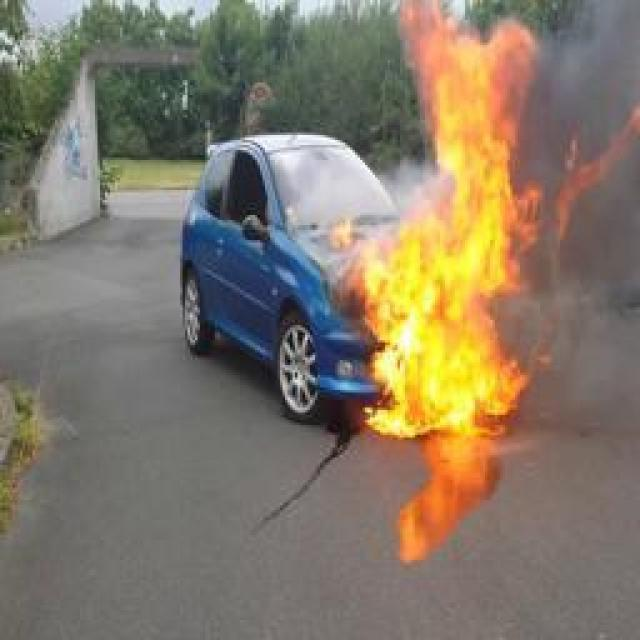Fire: (330, 0, 640, 438)
